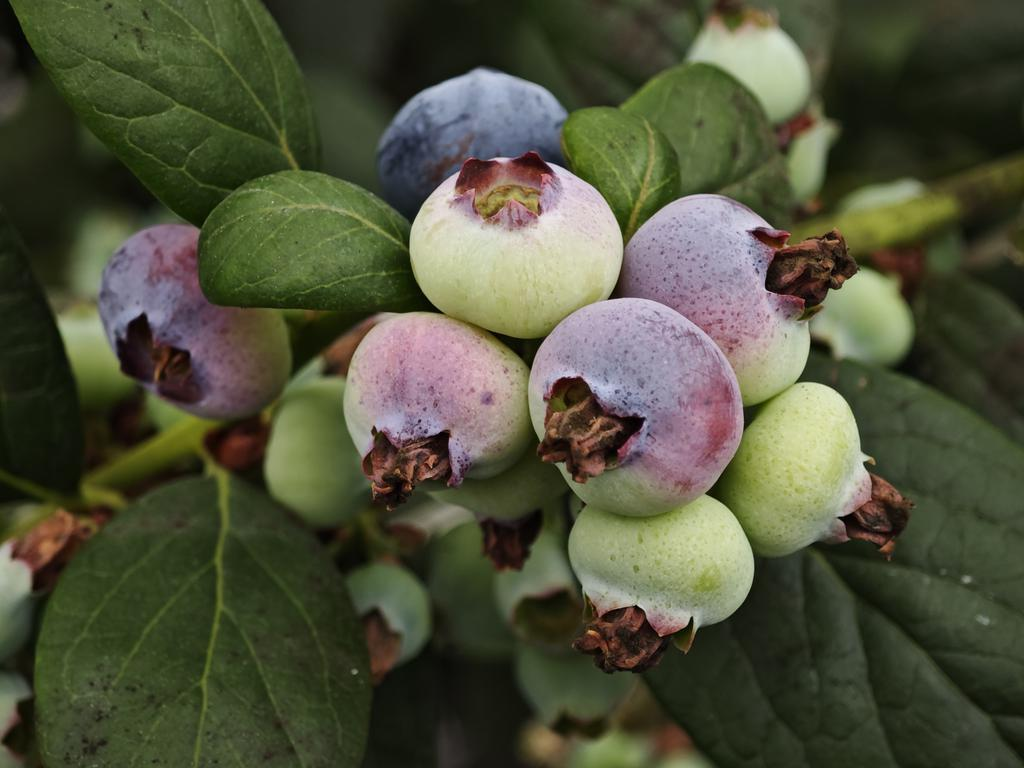Semi-RipeBlueBerry: (527, 293, 748, 524), (629, 189, 820, 404), (95, 218, 296, 419), (339, 309, 526, 500)
UnripeBlueBerry: (408, 152, 628, 338)
